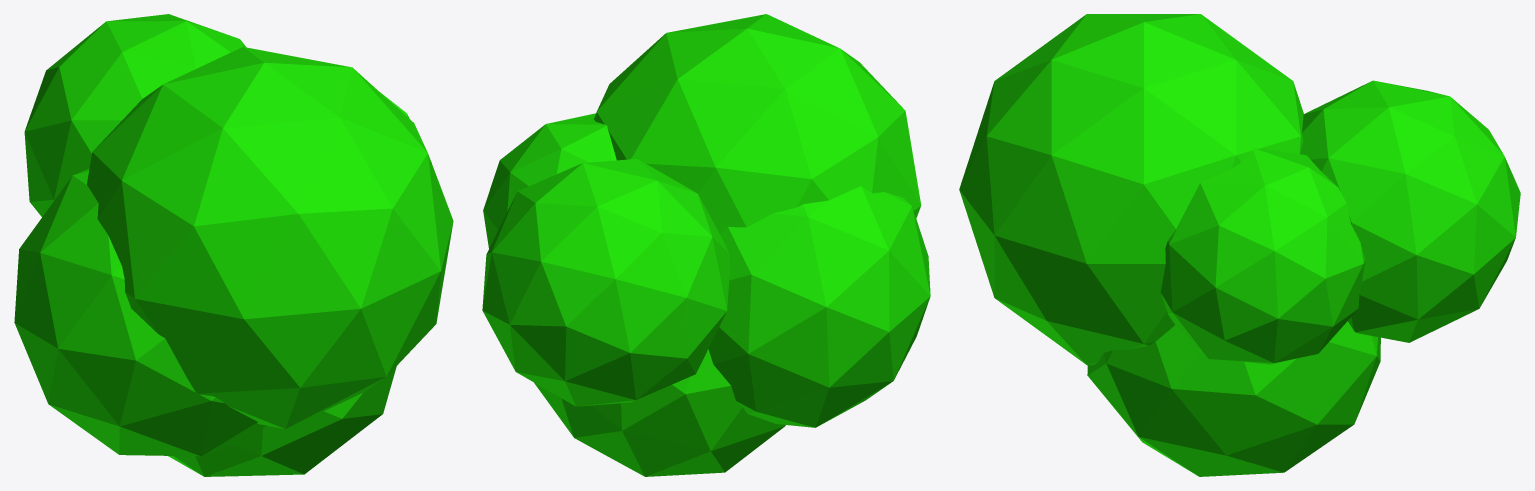
The model's file is bush 12.fbx.
3 renders of one model, left to right at view 1: azimuth 30°, elevation 25°; view 2: azimuth 150°, elevation 25°; view 3: azimuth 270°, elevation 25°, orthographic. The views are drawn at different scales.
Parts seen in each view (by area): view 1: Icosphere.012; view 2: Icosphere.012; view 3: Icosphere.012.
Boxes of the visible parts, x1,y1,x2,y2 form: Icosphere.012: [14, 14, 453, 476]; Icosphere.012: [482, 14, 930, 476]; Icosphere.012: [959, 14, 1520, 476].
Size of the model in its own units: 247 by 257 by 304.
